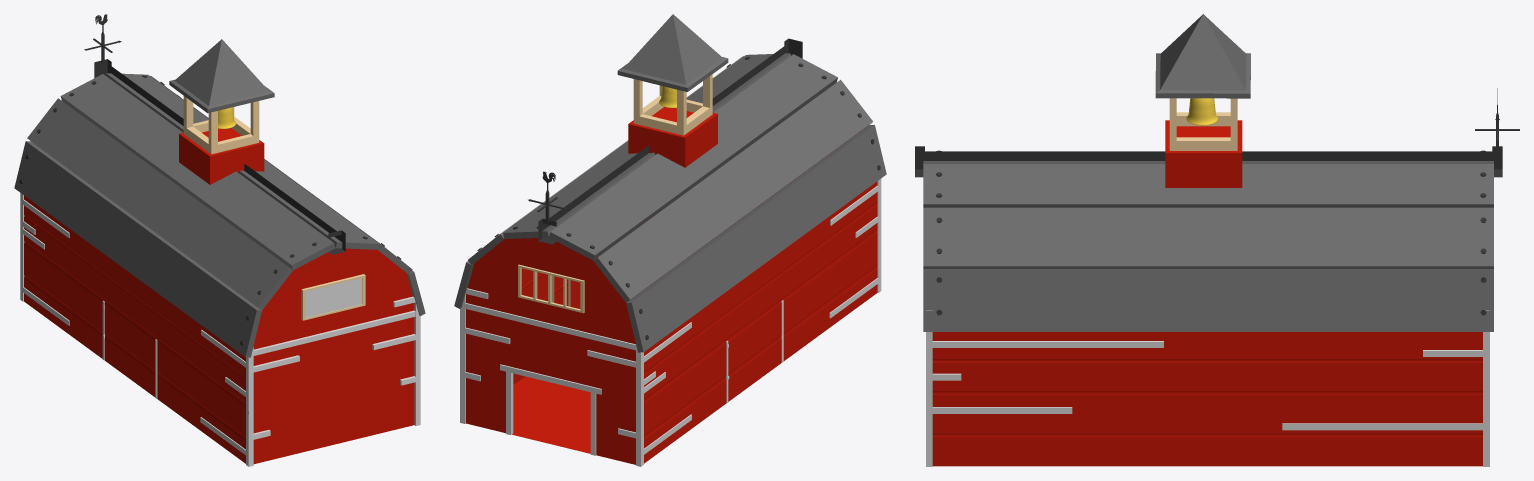
File: newBarn_Home.glb
The picture shows the model from 3 angles, left to right: view 1: azimuth 30°, elevation 25°; view 2: azimuth 150°, elevation 25°; view 3: azimuth 270°, elevation 25°; orthographic projection. The views are drawn at different scales.
Parts seen in each view (by area): view 1: Cube; view 2: Cube; view 3: Cube.
Boxes of the visible parts, x1=… form: Cube: x1=14, y1=14, x2=425, y2=466; Cube: x1=454, y1=14, x2=886, y2=466; Cube: x1=915, y1=14, x2=1519, y2=466.
Bounding box in the file's own units: 4.74 × 8.16 × 11.16.
